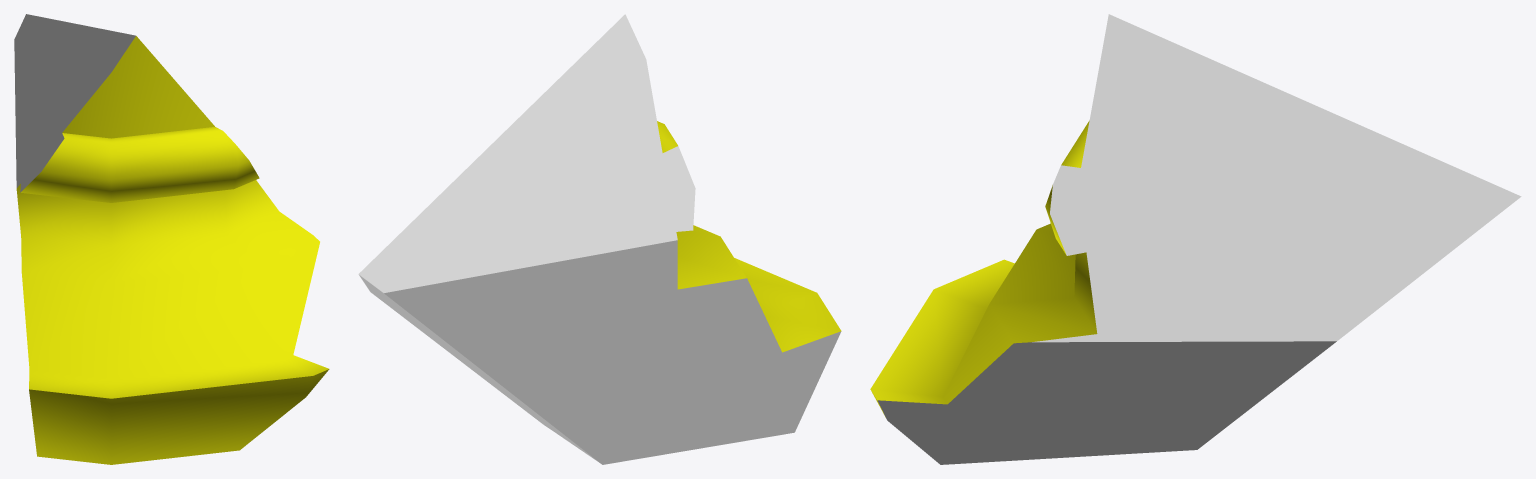
Rendered from mdl_ciudadela_casa_pilar1_fracturepart4.fbx.
The picture shows the model from 3 angles, left to right: view 1: azimuth 30°, elevation 25°; view 2: azimuth 150°, elevation 25°; view 3: azimuth 270°, elevation 25°; orthographic projection. The views are drawn at different scales.
Parts seen in each view (by area): view 1: mdl_ciudadela_casa_pilar1_fracturepart4; view 2: mdl_ciudadela_casa_pilar1_fracturepart4; view 3: mdl_ciudadela_casa_pilar1_fracturepart4.
Part boxes in pixels (box(x1,y1,x2,y2)): mdl_ciudadela_casa_pilar1_fracturepart4: box(14, 14, 329, 464); mdl_ciudadela_casa_pilar1_fracturepart4: box(358, 14, 841, 464); mdl_ciudadela_casa_pilar1_fracturepart4: box(870, 14, 1521, 464).
Bounding box in the file's own units: 0.6523 × 0.7795 × 1.06.
